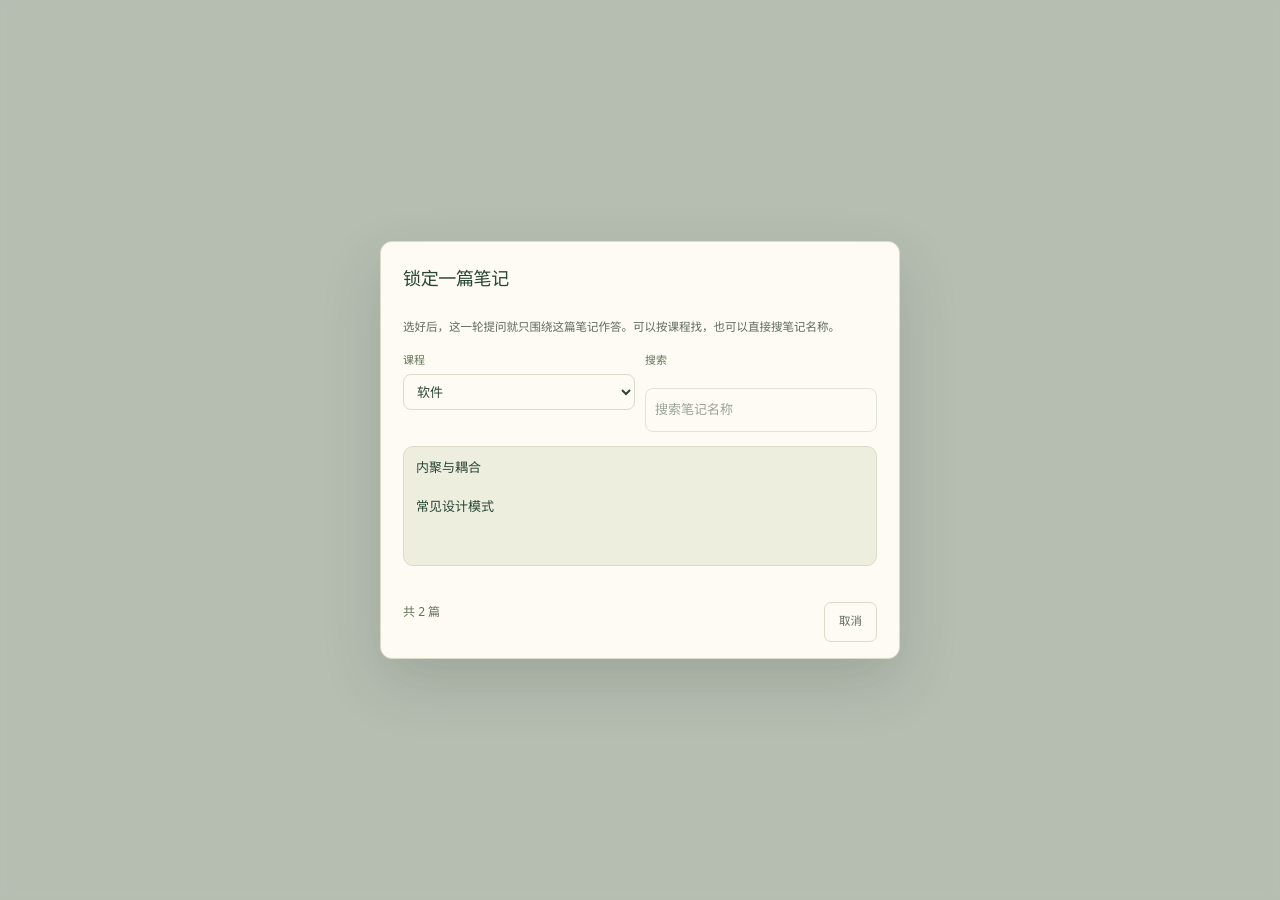
换课程时按需拉取该课程笔记
The width and height of the screenshot is (1280, 900).
Select "算法" in the dropdown named "按课程筛选笔记" at (519, 392), box [403,374,635,410]
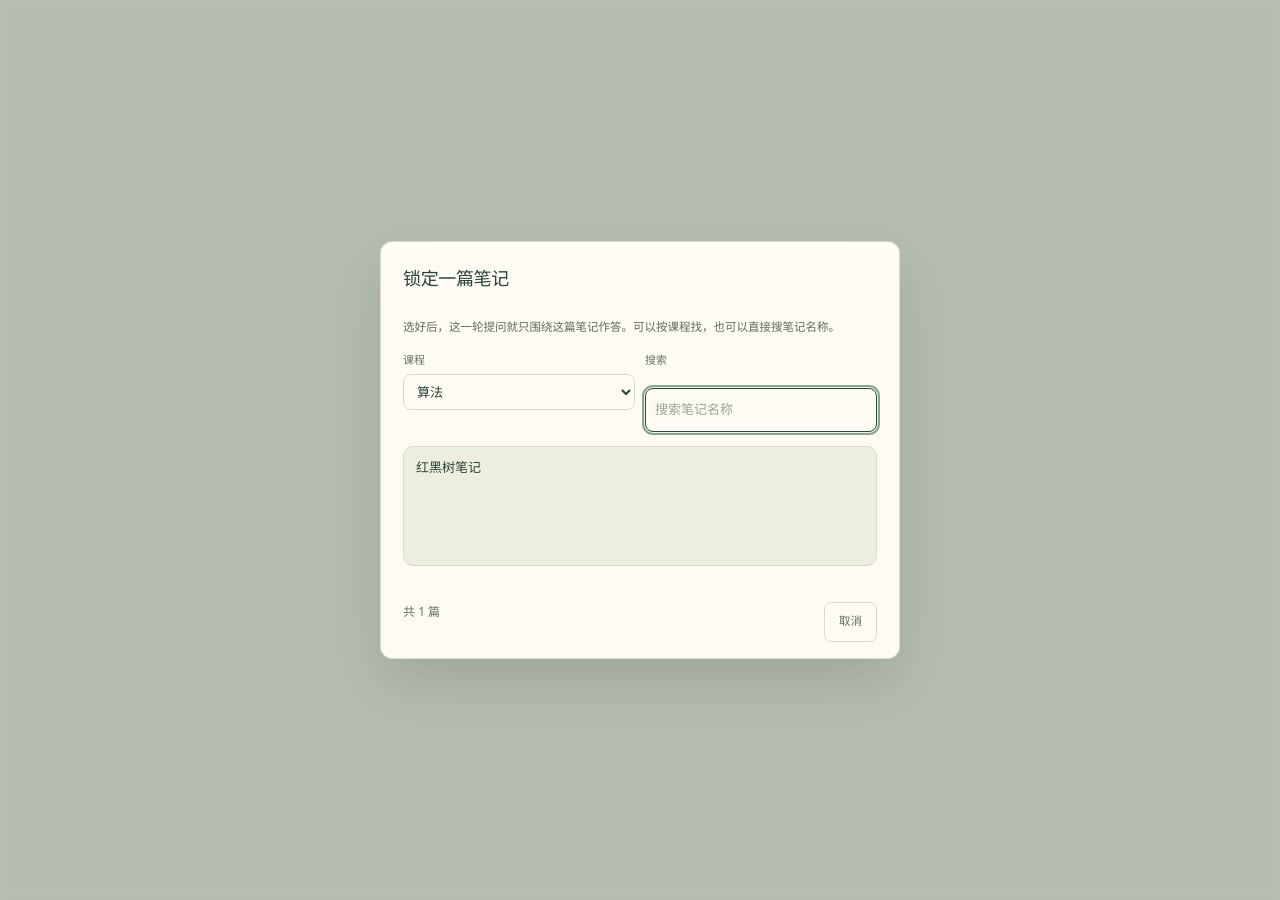
Check: the text "红黑树笔记" is shown, box [416,458,481,476]
Check: the button "内聚与耦合" is gone
